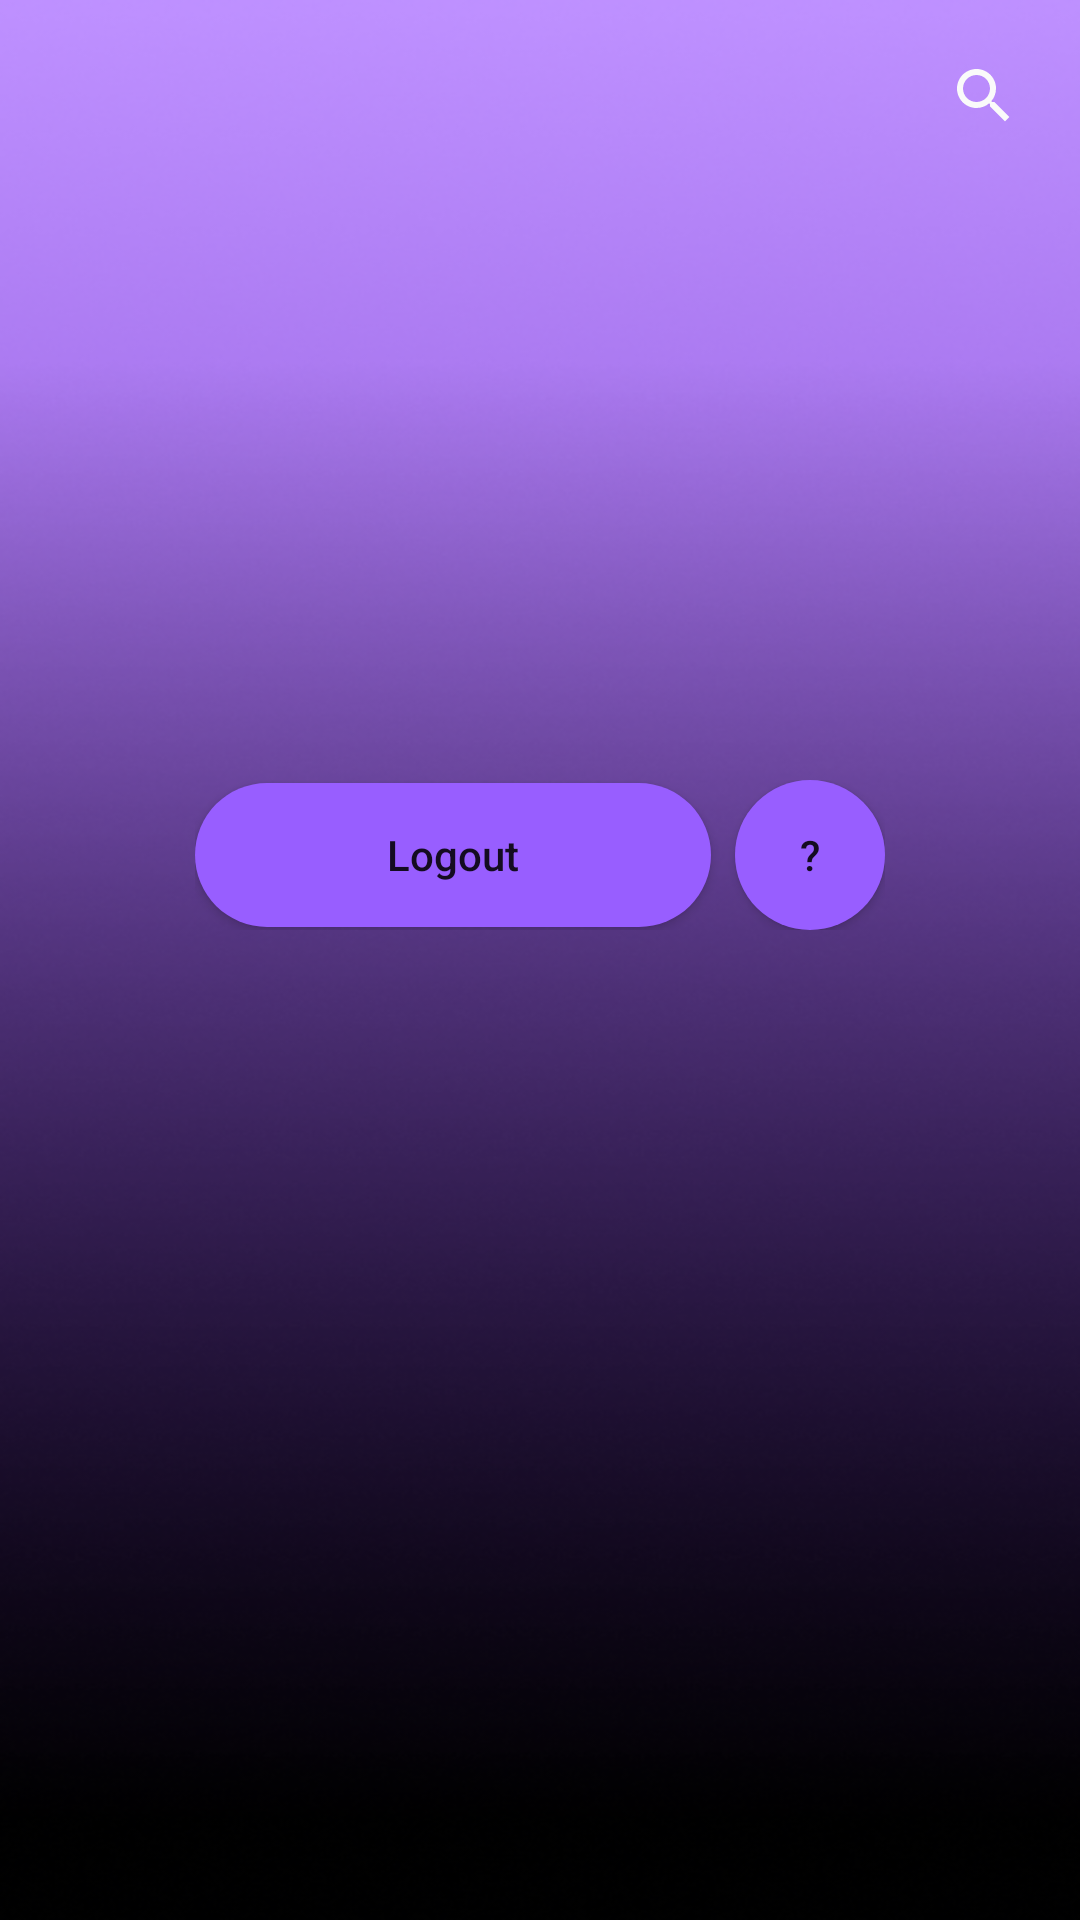

Icons on this 1080 × 1920 Android screen, each with its box as (x1, y1, x2, y2):
search: (957, 69, 1009, 121)
